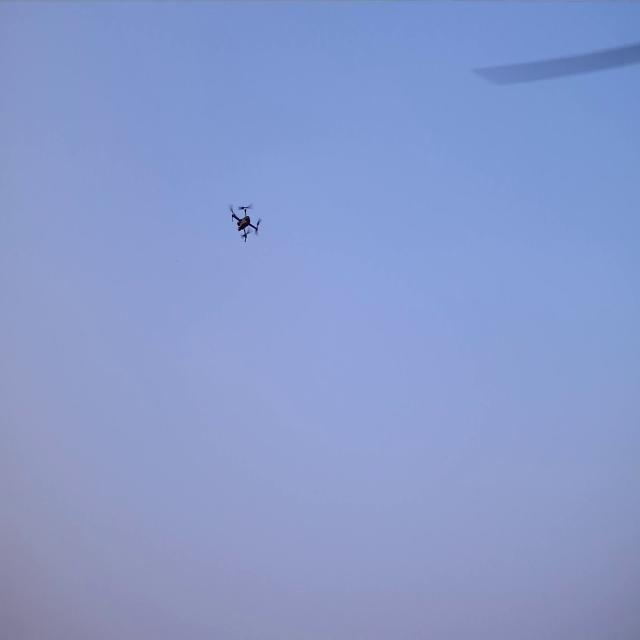UAV: (232, 207, 258, 241)
